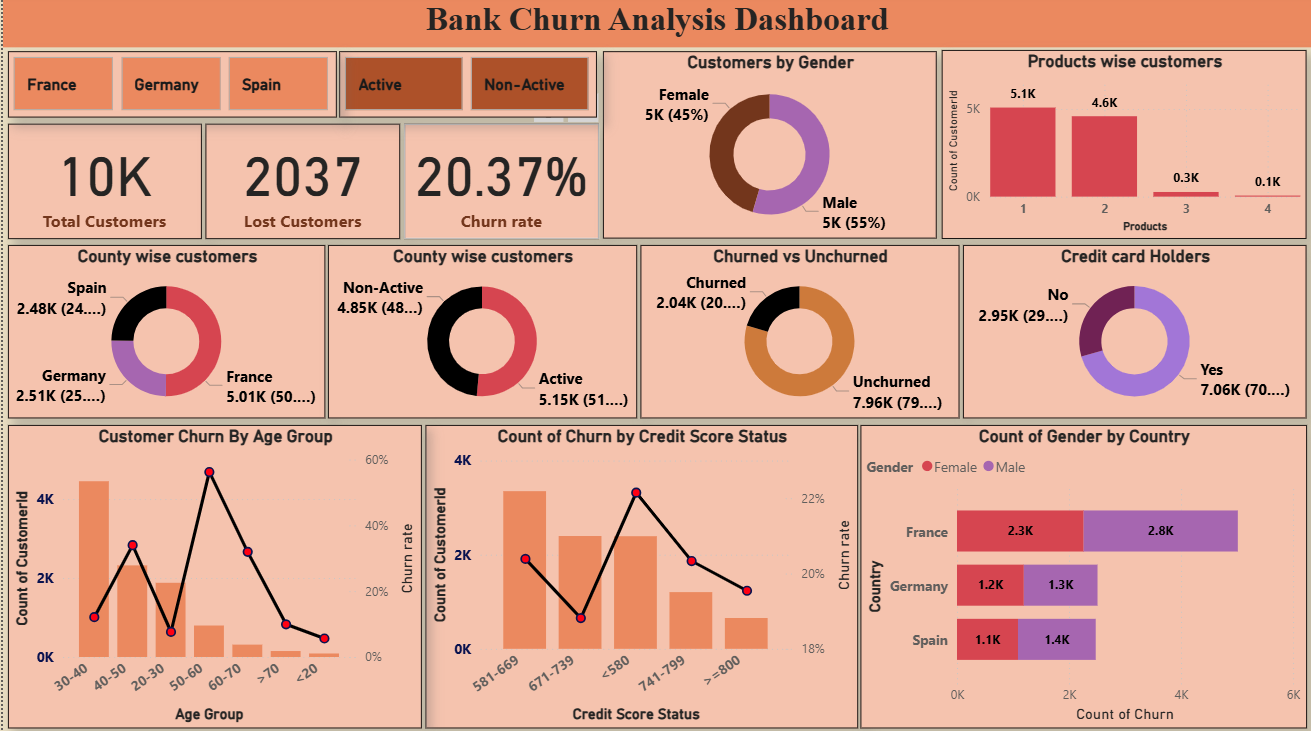

This screenshot's page, from the dashboard's own definition file:
{"tool":"powerbi","page":{"name":"Page 1","canvas":[1280,720],"ordinal":0},"visuals":[{"type":"textbox","box":[0,0,1280.3,51.4],"z":0},{"type":"card","fields":{"Values":["Bank Churn.Total Customers"]},"box":[4.9,126,189.5,112.5],"z":1000},{"type":"card","fields":{"Values":["Bank Churn.Lost Customers"]},"box":[198.1,126,190.8,112.5],"z":2000},{"type":"card","fields":{"Values":["Bank Churn.Churn rate"]},"box":[392.5,126,190.8,112.5],"z":3000},{"type":"donutChart","title":"Customers by Gender","fields":{"Category":["Bank Churn.Gender"],"Y":["CountNonNull(Bank Churn.CustomerId)"]},"box":[587,55,326.5,183.4],"z":4000},{"type":"donutChart","title":"County wise customers","fields":{"Y":["CountNonNull(Bank Churn.CustomerId)"],"Category":["Bank Churn.Geography"]},"box":[4.9,244.6,310.6,170],"z":5000},{"type":"columnChart","title":"Products wise customers","fields":{"Y":["CountNonNull(Bank Churn.CustomerId)"],"Category":["Bank Churn.NumOfProducts"]},"box":[918.3,53.8,357.1,184.6],"z":6000},{"type":"donutChart","title":"County wise customers","fields":{"Y":["CountNonNull(Bank Churn.CustomerId)"],"Category":["Bank Churn.Is Active Member"]},"box":[317.9,244.6,302,170],"z":7000},{"type":"donutChart","title":"Churned vs Unchurned","fields":{"Y":["CountNonNull(Bank Churn.CustomerId)"],"Category":["Bank Churn.Churn"]},"box":[623.6,244.6,311.8,170],"z":8000},{"type":"donutChart","title":"Credit card Holders","fields":{"Y":["CountNonNull(Bank Churn.CustomerId)"],"Category":["Bank Churn.Has Credit Card"]},"box":[939.1,244.6,336.3,170],"z":9000},{"type":"lineStackedColumnComboChart","title":"Count of Churn by Credit Score Status","fields":{"Category":["Credit Score Status.Credit Score Status"],"Y":["CountNonNull(Bank Churn.CustomerId)"],"Y2":["Bank Churn.Churn rate"]},"box":[413.3,420.7,423.1,297.1],"z":10000},{"type":"lineStackedColumnComboChart","title":" Customer Churn  By Age Group","fields":{"Category":["Age Groups.Age Group"],"Y":["CountNonNull(Bank Churn.CustomerId)"],"Y2":["Bank Churn.Churn rate"]},"box":[4.9,420.7,404.8,297.1],"z":11000},{"type":"advancedSlicerVisual","fields":{"Values":["Bank Churn.Is Active Member"]},"box":[328.9,55,251.9,64.8],"z":12000},{"type":"advancedSlicerVisual","fields":{"Values":["Bank Churn.Geography"]},"box":[4.9,55,321.6,64.8],"z":13000},{"type":"barChart","title":"Count of Gender by Country","fields":{"Category":["Bank Churn.Geography"],"Series":["Bank Churn.Gender"],"Y":["CountNonNull(Bank Churn.Churn)"]},"box":[838.9,420.7,436.6,297.1],"z":14000}]}

Visuals, with their boxes in screenshot pixels (x1, y1, x2, y2), scaled from the page's 1280x720 canvas onto the 1311x731 screenshot:
textbox: [0,0,1310,52]
card - Bank Churn.Total Customers: [5,128,199,242]
card - Bank Churn.Lost Customers: [203,128,398,242]
card - Bank Churn.Churn rate: [402,128,597,242]
"Customers by Gender" donutChart: [601,56,936,242]
"County wise customers" donutChart: [5,248,323,421]
"Products wise customers" columnChart: [941,55,1306,242]
"County wise customers" donutChart: [326,248,635,421]
"Churned vs Unchurned" donutChart: [639,248,958,421]
"Credit card Holders" donutChart: [962,248,1306,421]
"Count of Churn by Credit Score Status" lineStackedColumnComboChart: [423,427,857,729]
" Customer Churn  By Age Group" lineStackedColumnComboChart: [5,427,420,729]
advancedSlicerVisual - Bank Churn.Is Active Member: [337,56,595,122]
advancedSlicerVisual - Bank Churn.Geography: [5,56,334,122]
"Count of Gender by Country" barChart: [859,427,1306,729]
